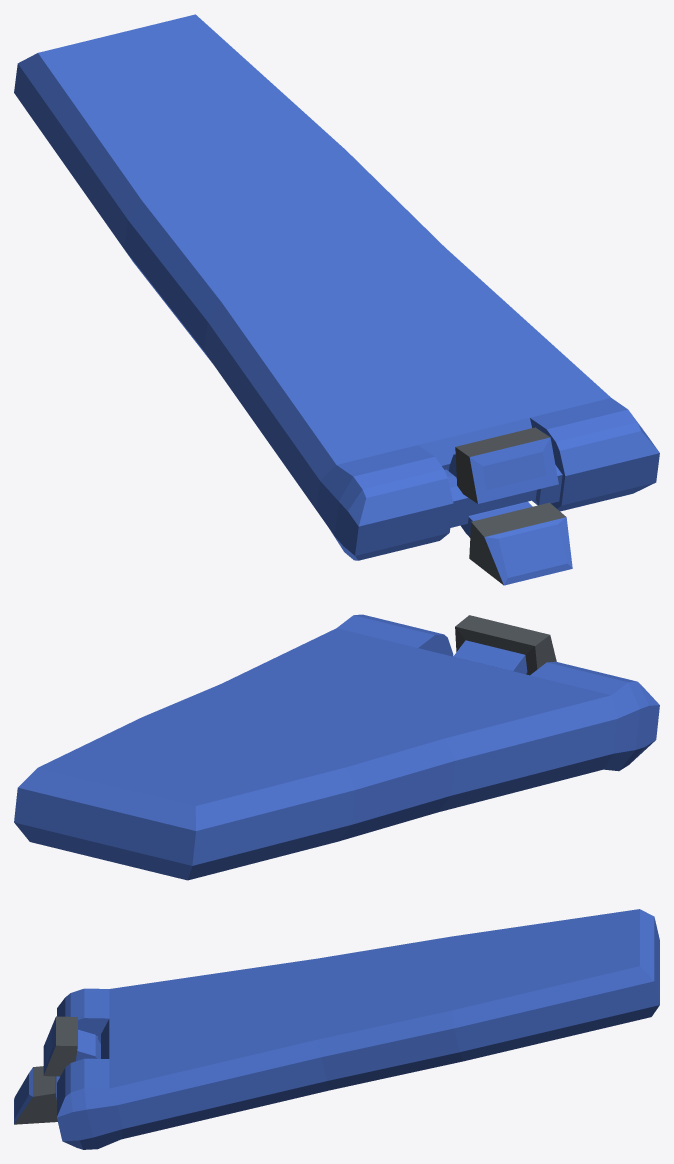
Rendered from Fighter_04_Flap_Right_Blue.fbx.
3 renders of one model, top to bottom at view 1: azimuth 30°, elevation 25°; view 2: azimuth 150°, elevation 25°; view 3: azimuth 270°, elevation 25°, orthographic. The views are drawn at different scales.
Visible parts, largest first — view 1: Fighter_04_Flap_Right_Blue; view 2: Fighter_04_Flap_Right_Blue; view 3: Fighter_04_Flap_Right_Blue.
Part boxes in pixels (<box>): Fighter_04_Flap_Right_Blue: <box>14,14,659,585</box>; Fighter_04_Flap_Right_Blue: <box>14,614,659,880</box>; Fighter_04_Flap_Right_Blue: <box>14,909,659,1149</box>.
Size of the model in its own units: 116 by 86.18 by 289.
1 material, 1 textured.
